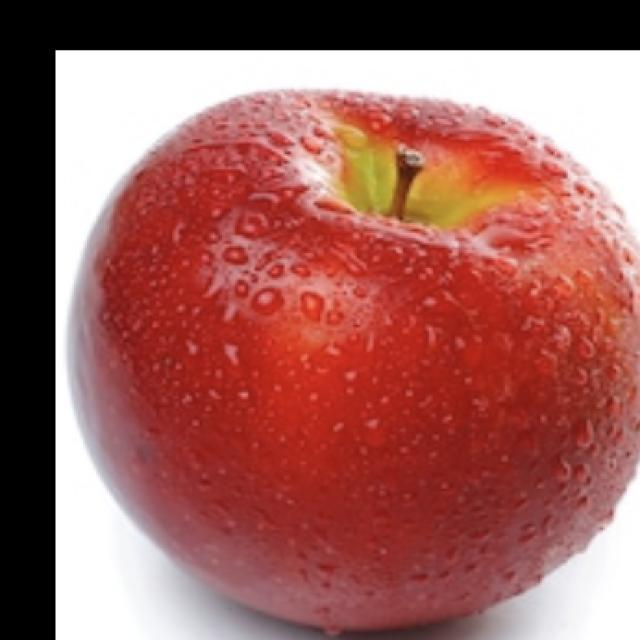Fresh Apple: (70, 78, 640, 640)
